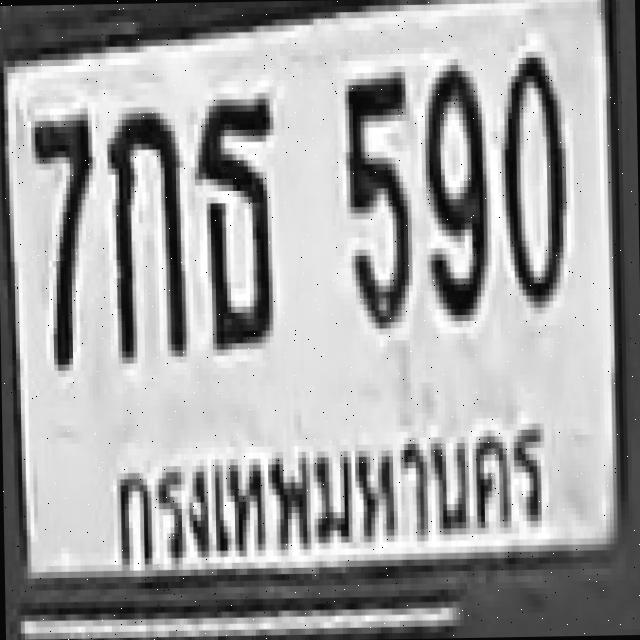0: (497, 51, 566, 308)
10GorGai: (106, 106, 182, 357)
33ThorThong: (193, 92, 273, 344)
5: (340, 68, 410, 326)
7: (30, 108, 91, 364)
9: (420, 58, 484, 315)
Bangkok: (95, 398, 561, 582)
